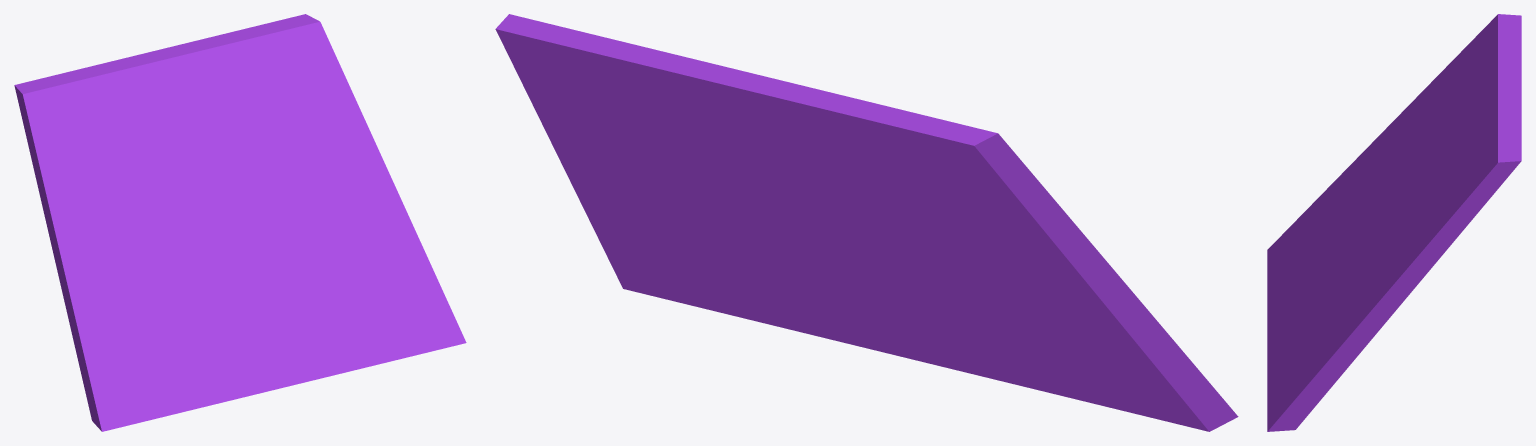
The model's file is Window_91.fbx.
The picture shows the model from 3 angles, left to right: view 1: azimuth 30°, elevation 25°; view 2: azimuth 150°, elevation 25°; view 3: azimuth 270°, elevation 25°; orthographic projection. The views are drawn at different scales.
Visible parts, largest first — view 1: Window_91; view 2: Window_91; view 3: Window_91.
Boxes of the visible parts, x1,y1,x2,y2 form: Window_91: (14,14,466,431); Window_91: (495,14,1238,431); Window_91: (1267,14,1521,431).
Size of the model in its own units: 1281 by 829 by 756.
